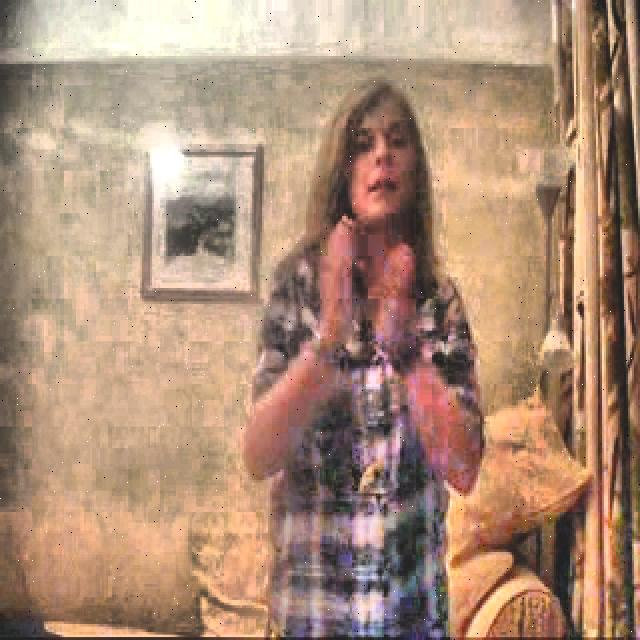F: (250, 80, 485, 640)
